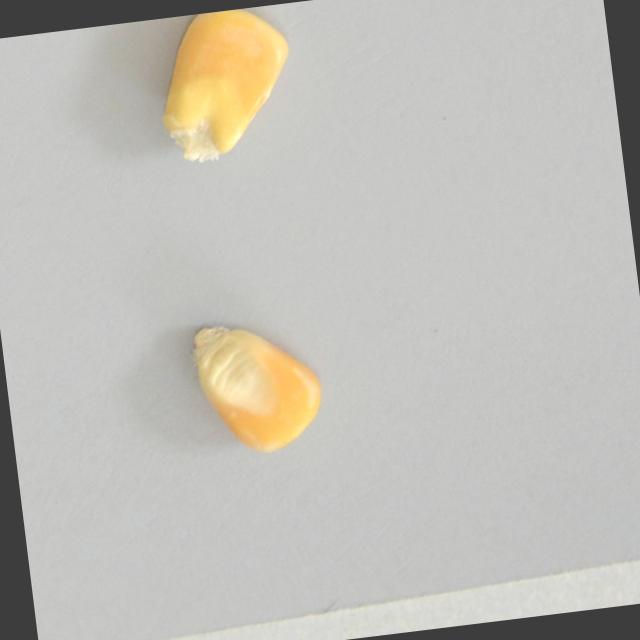entero: (149, 2, 303, 170), (177, 301, 332, 467)
